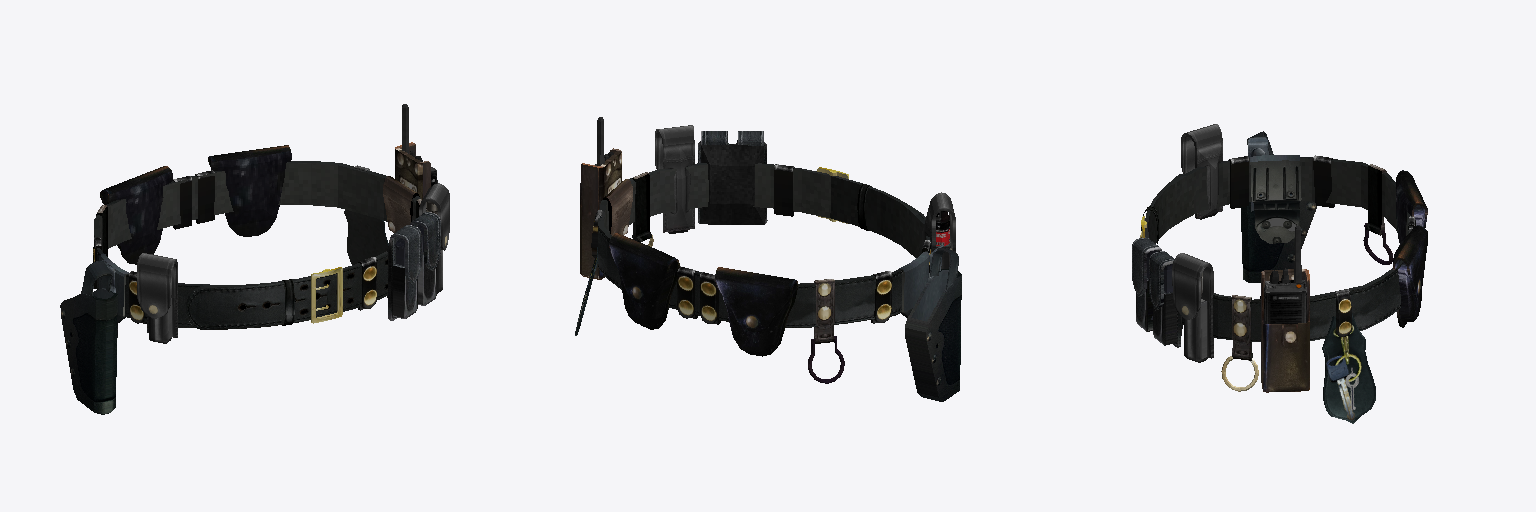
3 renders of one model, left to right at view 1: azimuth 30°, elevation 25°; view 2: azimuth 150°, elevation 25°; view 3: azimuth 270°, elevation 25°, orthographic.
Parts seen in each view (by area): view 1: 1_sbbelt; view 2: 1_sbbelt; view 3: 1_sbbelt.
Part boxes in pixels (x1,y1,x2,y2): 1_sbbelt: (60, 104, 449, 414); 1_sbbelt: (575, 117, 961, 401); 1_sbbelt: (1132, 124, 1427, 423).
Bounding box in the file's own units: 0.4242 × 0.2434 × 0.3075.
7 materials, 7 textured.